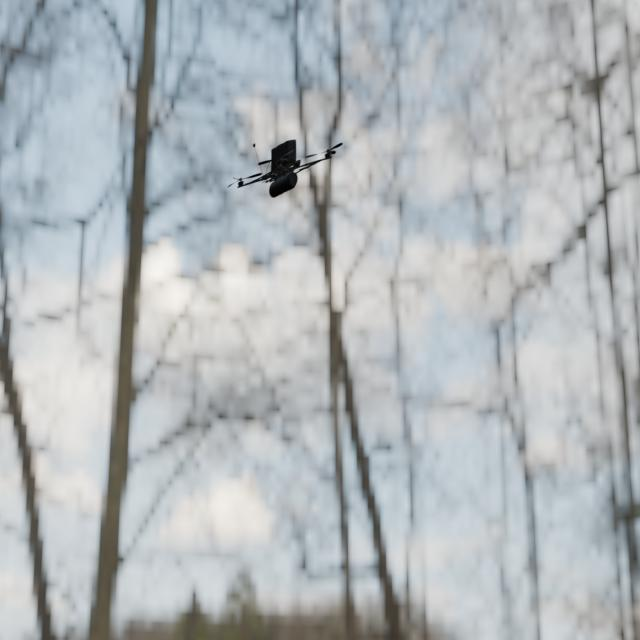drone: (228, 139, 343, 198)
